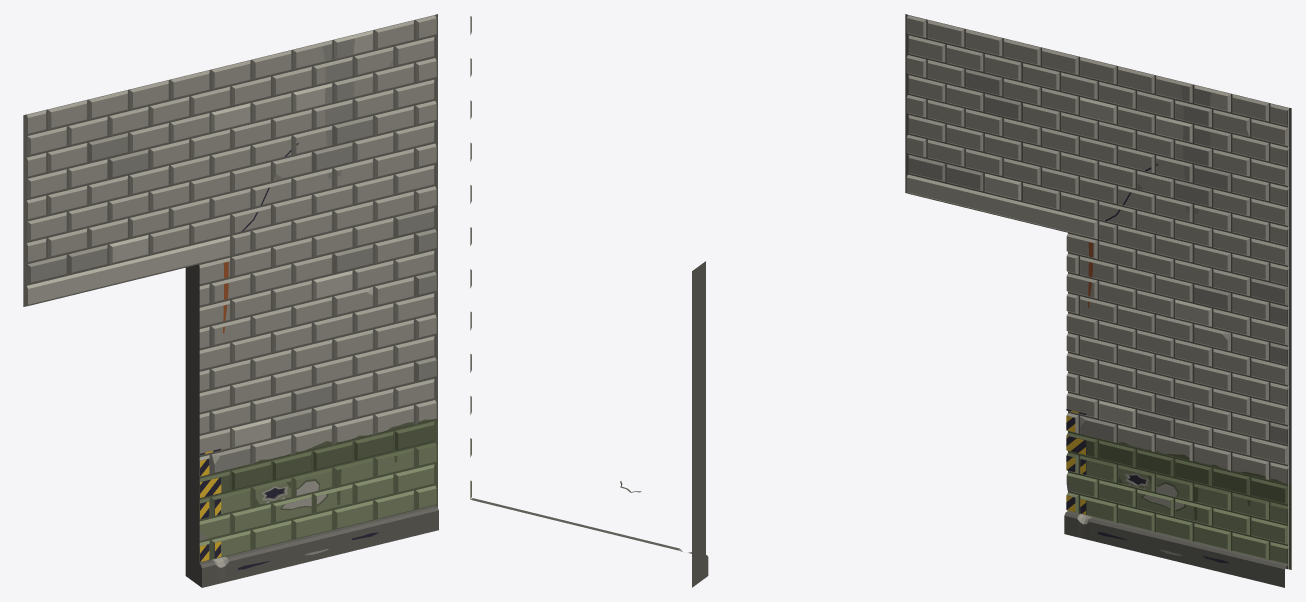
The model's file is wall_panel_pass.glb.
The picture shows the model from 3 angles, left to right: view 1: azimuth 30°, elevation 25°; view 2: azimuth 150°, elevation 25°; view 3: azimuth 330°, elevation 25°; orthographic projection. The views are drawn at different scales.
Parts seen in each view (by area): view 1: Wall; view 2: Wall; view 3: Wall.
Boxes of the visible parts, x1,y1,x2,y2 form: Wall: [23, 14, 438, 587]; Wall: [470, 16, 708, 587]; Wall: [905, 14, 1291, 587].
Size of the model in its own units: 5.08 by 6 by 0.3525.
